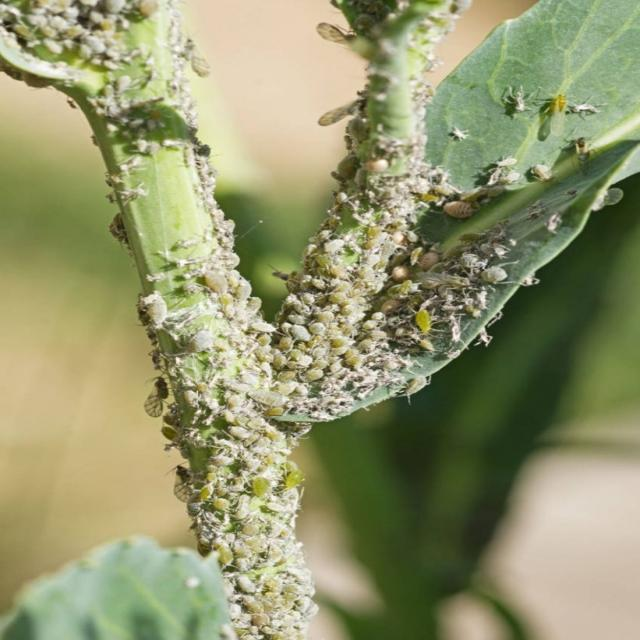aphid: (534, 80, 603, 140), (247, 451, 314, 507), (176, 472, 246, 520), (390, 303, 448, 351), (134, 288, 185, 338), (234, 573, 296, 613)
